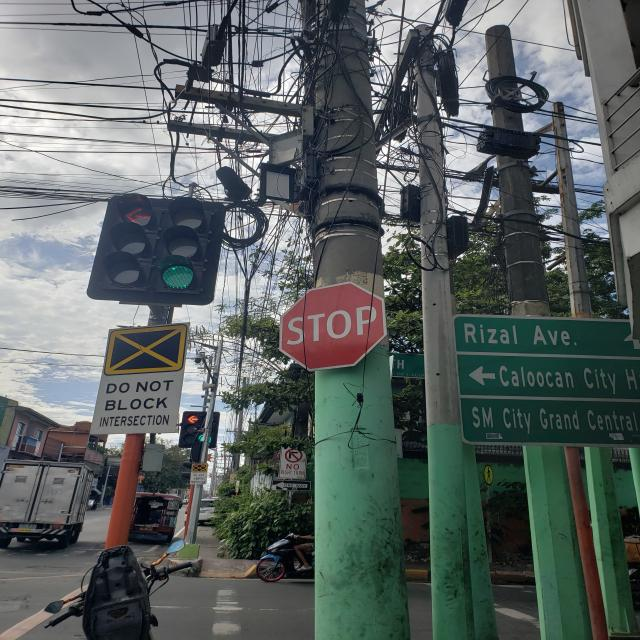stop-sign: (279, 281, 388, 372)
